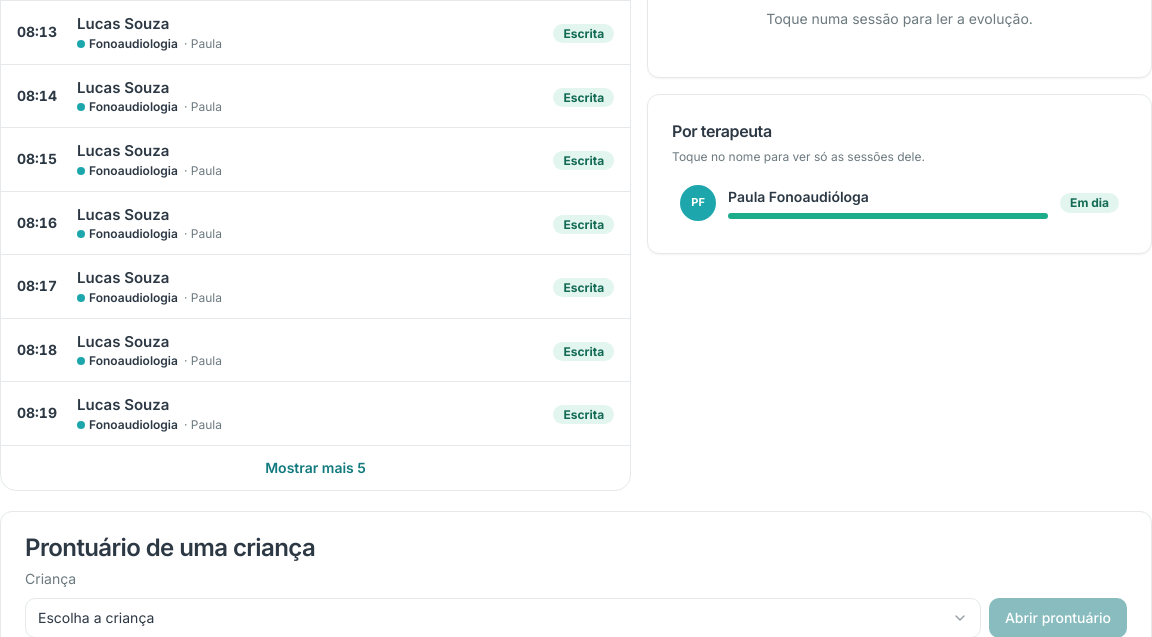
it: a lista mostra 20 sessões de cada vez
(page scrolled)
Click the button "Mostrar mais 5".
click(316, 468)  # box [1, 446, 630, 490]
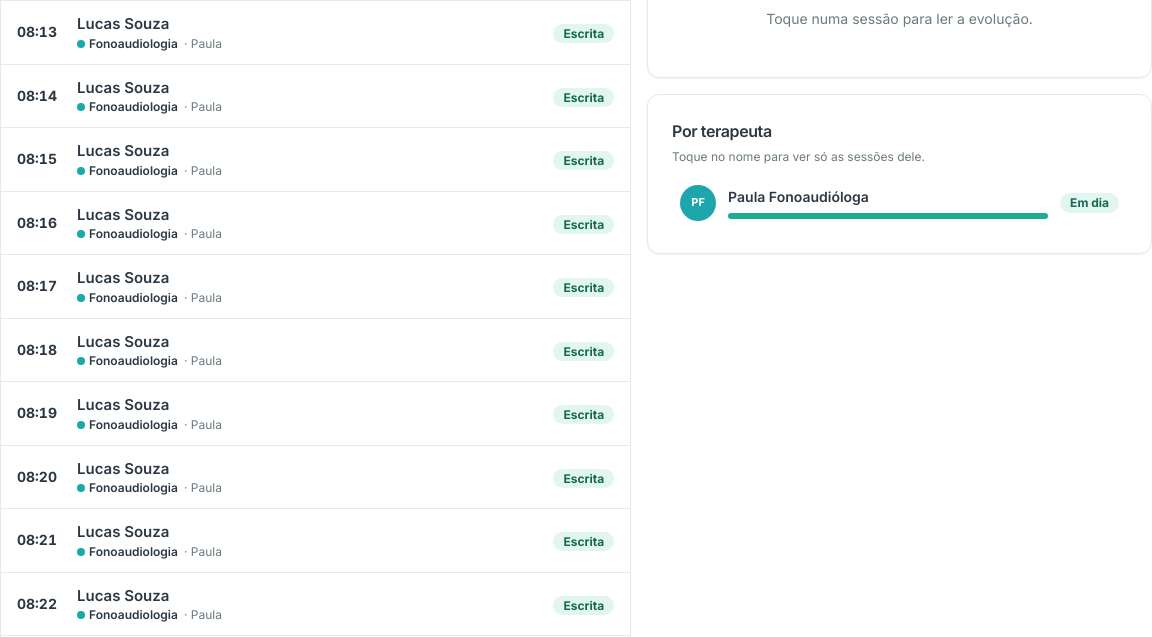
Check: the button "Mostrar mais" is gone
